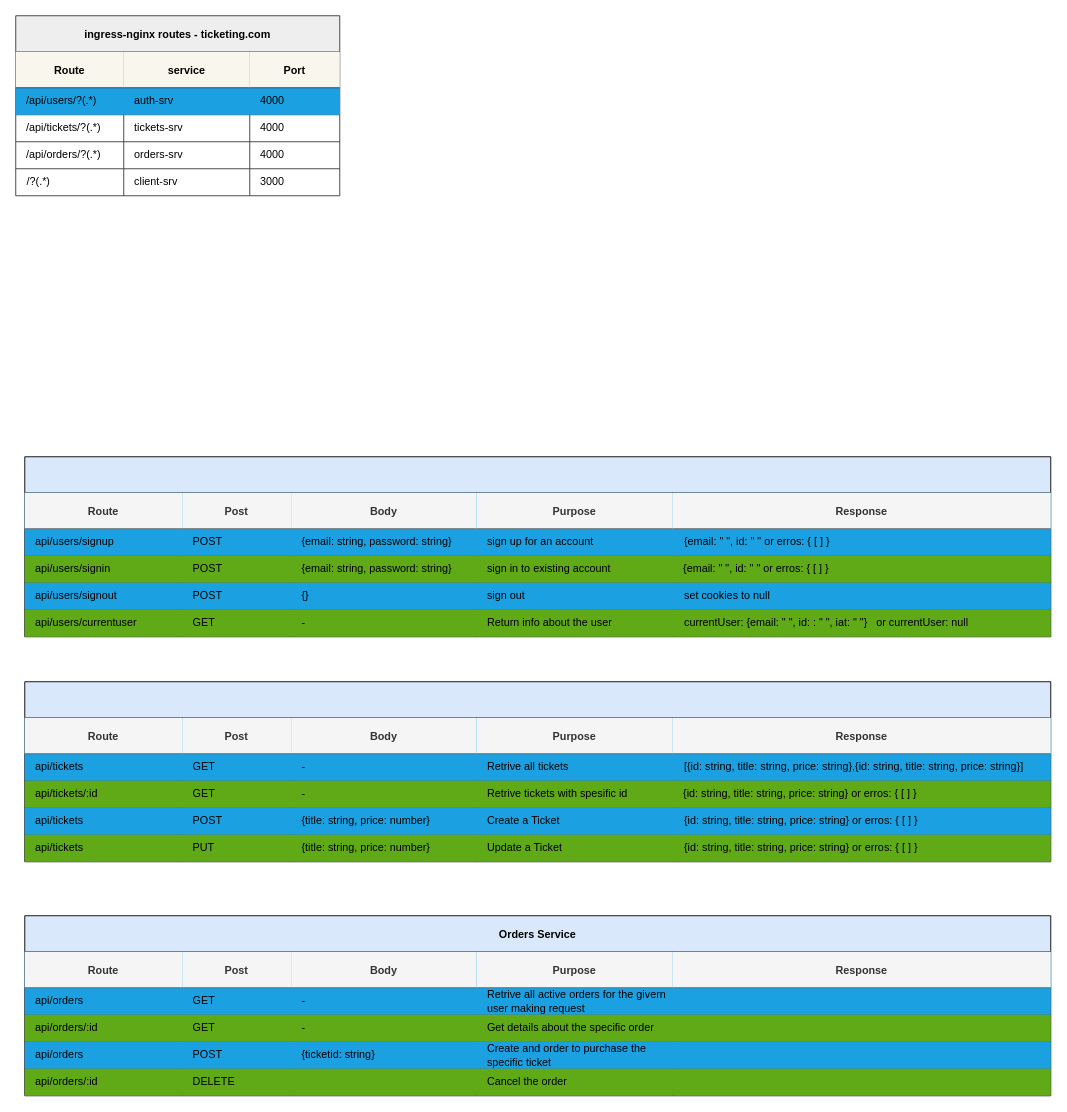
The diagram is 1067 pixels wide and 1112 high, and some of its shapes have lost their labels. The shapes that lost their labels are listed below. From the top down, each one's box as (x1, y1, x2, y2) in pixels, then its label:
(24, 456, 1051, 637): Auth Service
(24, 681, 1051, 862): Tickets Service
